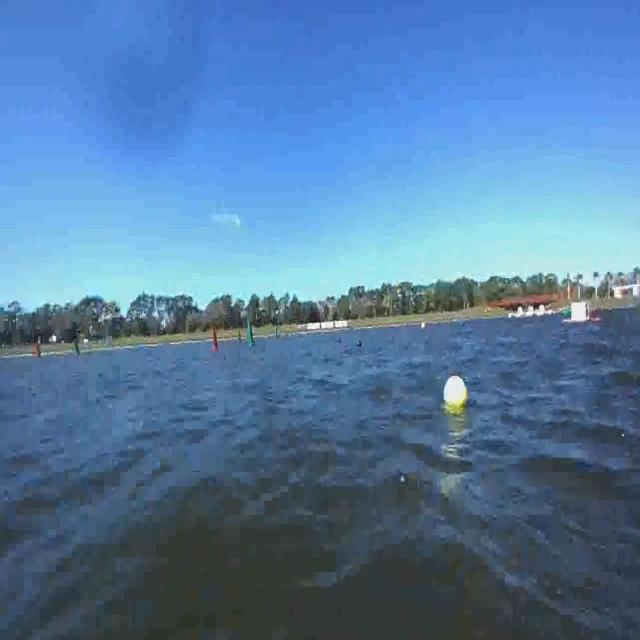black-buoy: (356, 339, 362, 348)
green-column-buoy: (243, 320, 254, 349), (74, 339, 82, 359)
red-column-buoy: (211, 325, 220, 353), (32, 342, 41, 361)
yellow-buoy: (444, 375, 468, 411), (420, 320, 426, 329)
